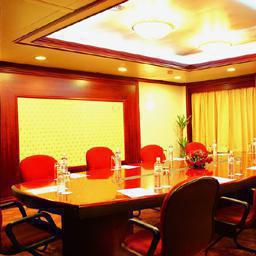Ventana: (192, 90, 255, 150)
